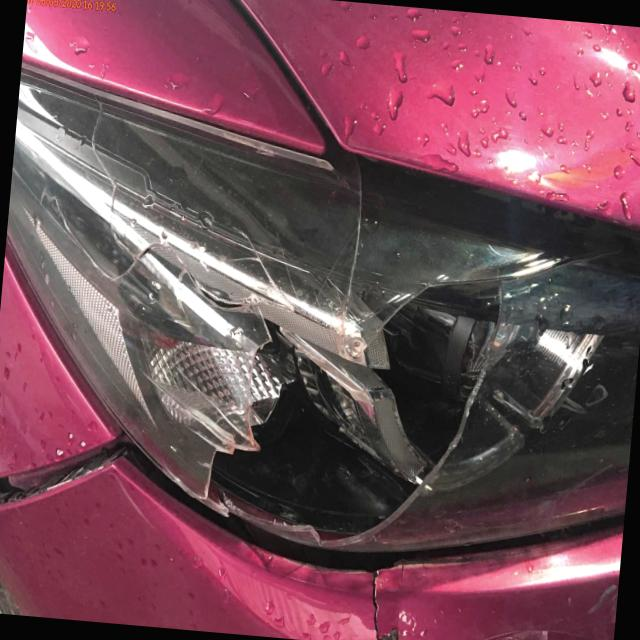Cabossage: (448, 597, 578, 640)
Dechirure: (0, 420, 142, 521), (359, 564, 412, 640)
